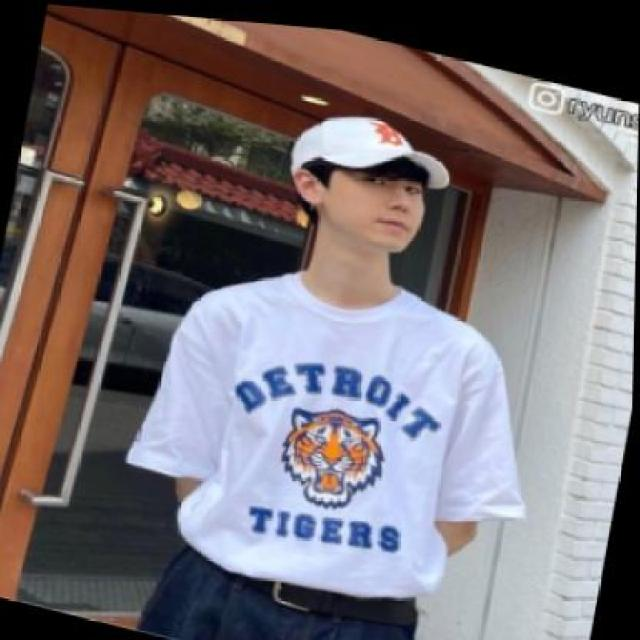hat: (285, 92, 460, 202)
